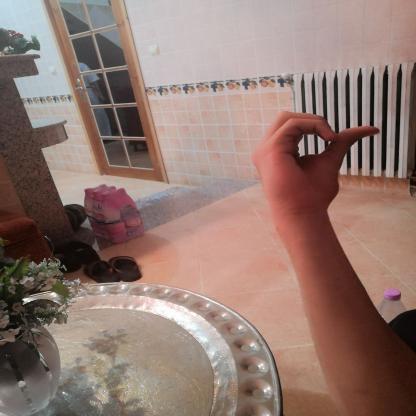WAW: (236, 100, 390, 226)
